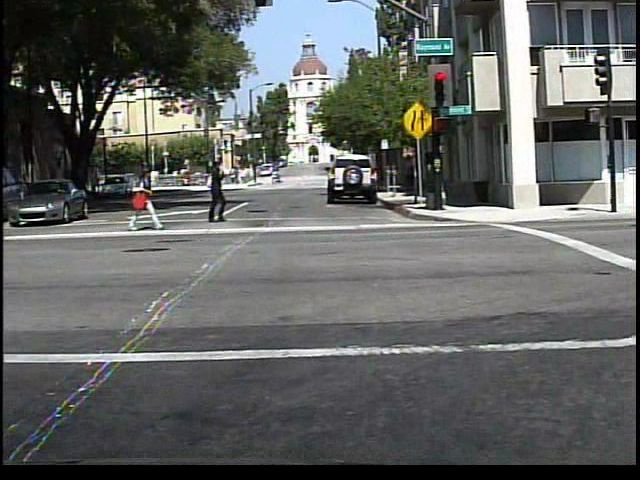person: (122, 162, 159, 234), (195, 158, 233, 224), (275, 166, 276, 187), (277, 168, 278, 188)
